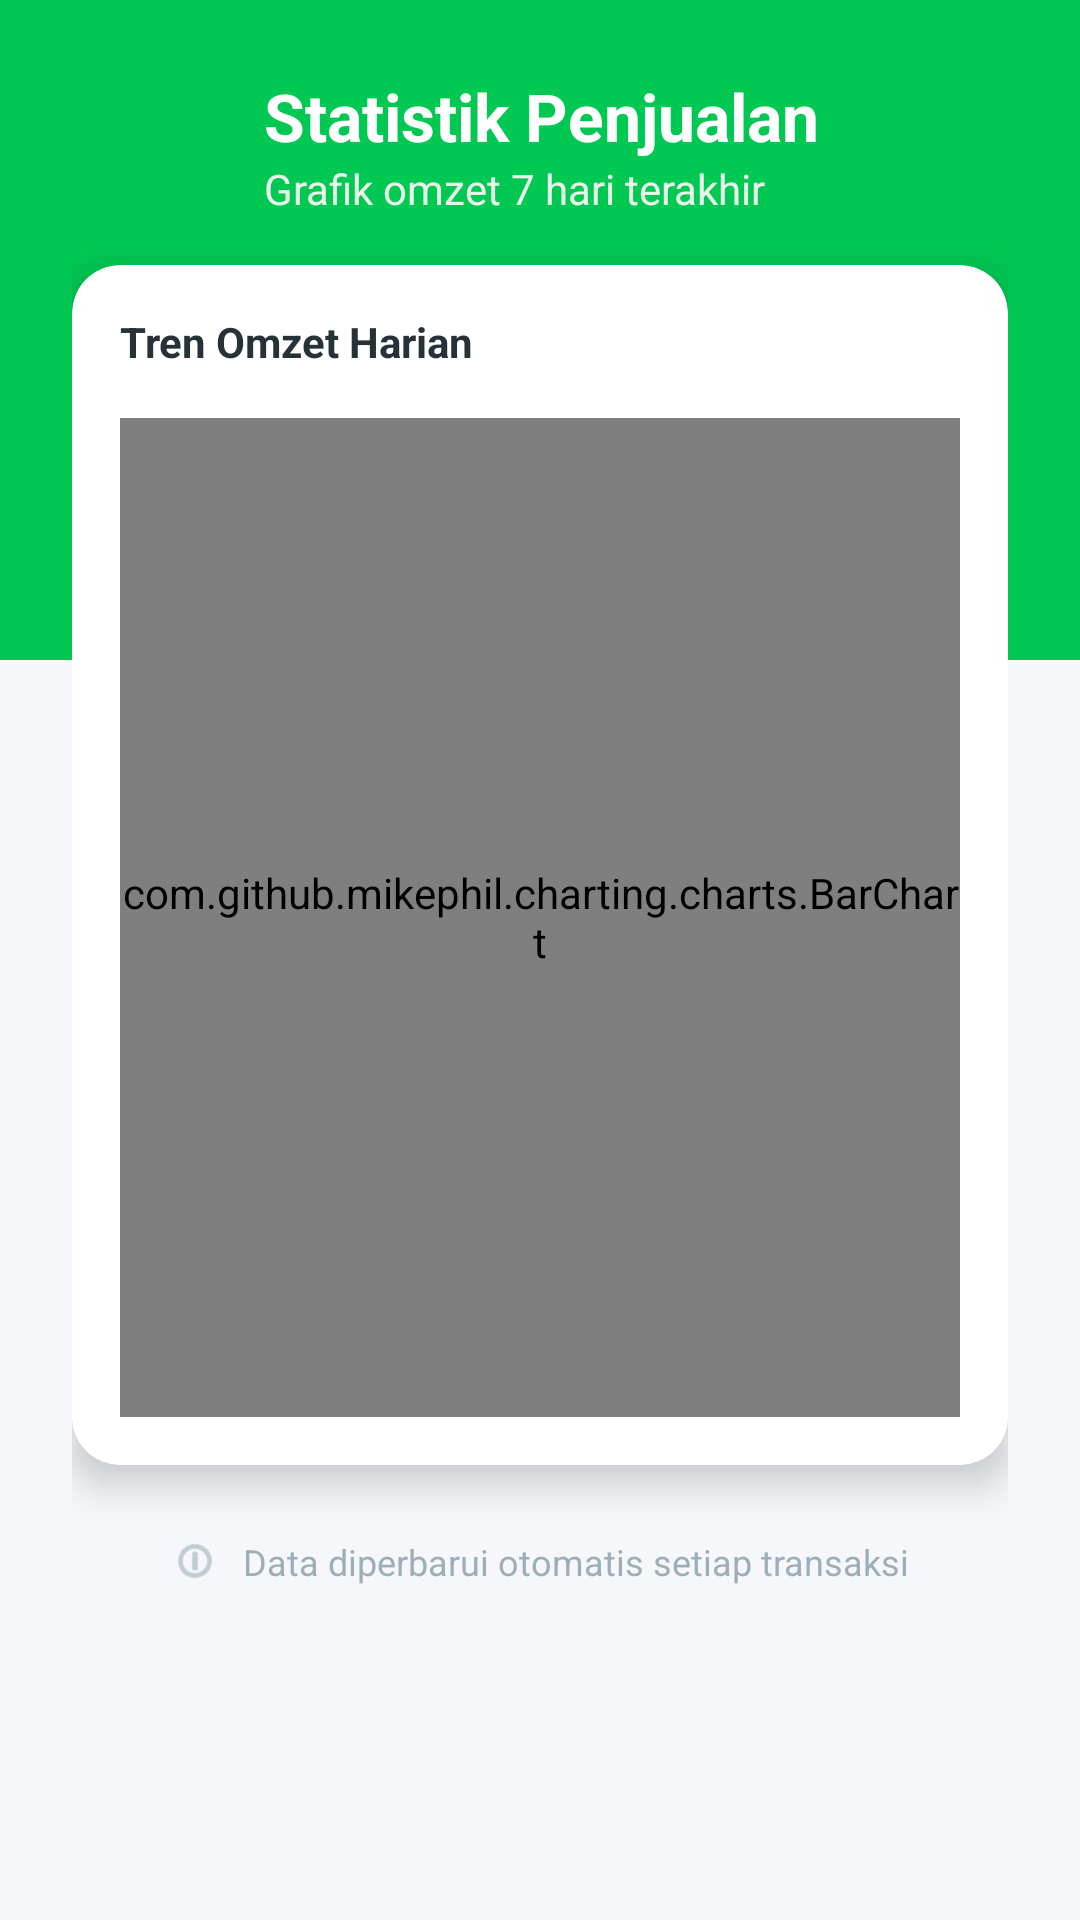

Icon bounding boxes for this 1080x1920 phone screenshot, format (x1, y1, x2, y2):
info details: (178, 1544, 212, 1578)
